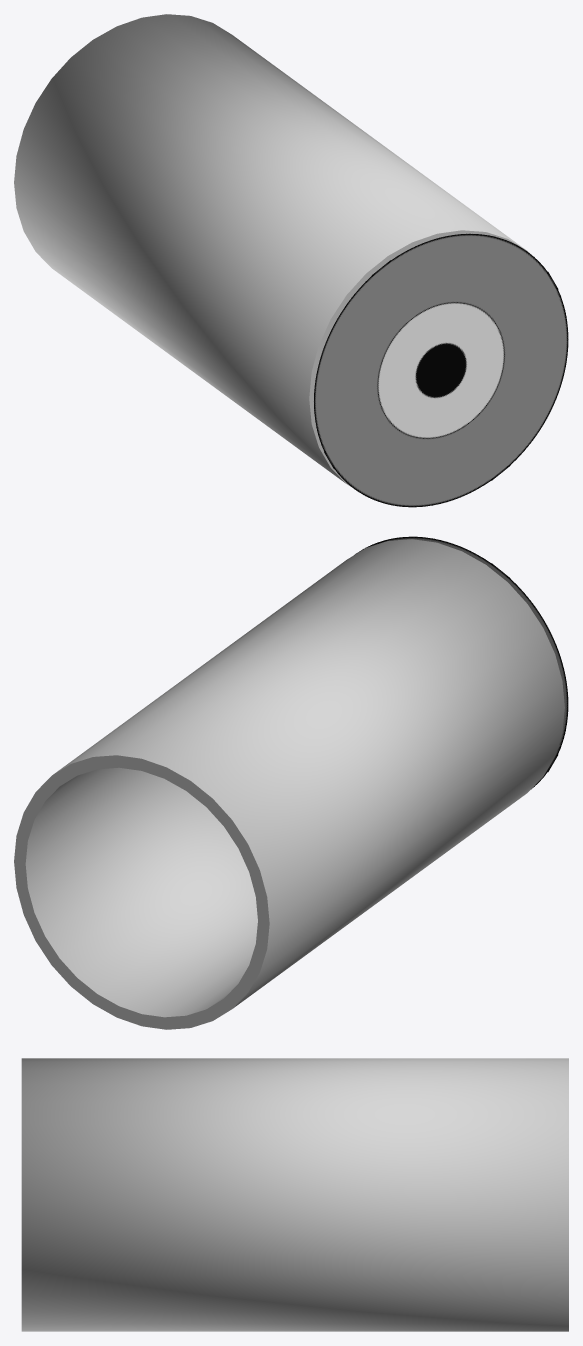
The model's file is start_check_manipulation.dae.
The picture shows the model from 3 angles, top to bottom: view 1: azimuth 30°, elevation 25°; view 2: azimuth 150°, elevation 25°; view 3: azimuth 270°, elevation 25°; orthographic projection. The views are drawn at different scales.
Visible parts, largest first — view 1: Cylinder, Circle; view 2: Cylinder, Circle; view 3: Cylinder.
Part boxes in pixels (x1=…): Cylinder: x1=14, y1=14, x2=528, y2=487; Circle: x1=314, y1=233, x2=568, y2=507; Cylinder: x1=14, y1=539, x2=564, y2=1029; Circle: x1=355, y1=536, x2=568, y2=789; Cylinder: x1=21, y1=1058, x2=568, y2=1331.
Size of the model in its own units: 0.05 by 0.1014 by 0.05.
2 materials, 1 textured.
